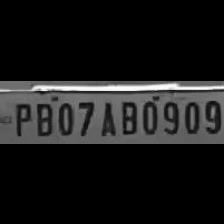0: (138, 96, 158, 134), (55, 99, 75, 136), (181, 98, 201, 134)
7: (75, 97, 95, 137)
9: (200, 96, 222, 134), (159, 97, 179, 136)
A: (95, 97, 117, 136)
B: (32, 97, 54, 137), (118, 96, 138, 134)
P: (10, 98, 32, 136)
